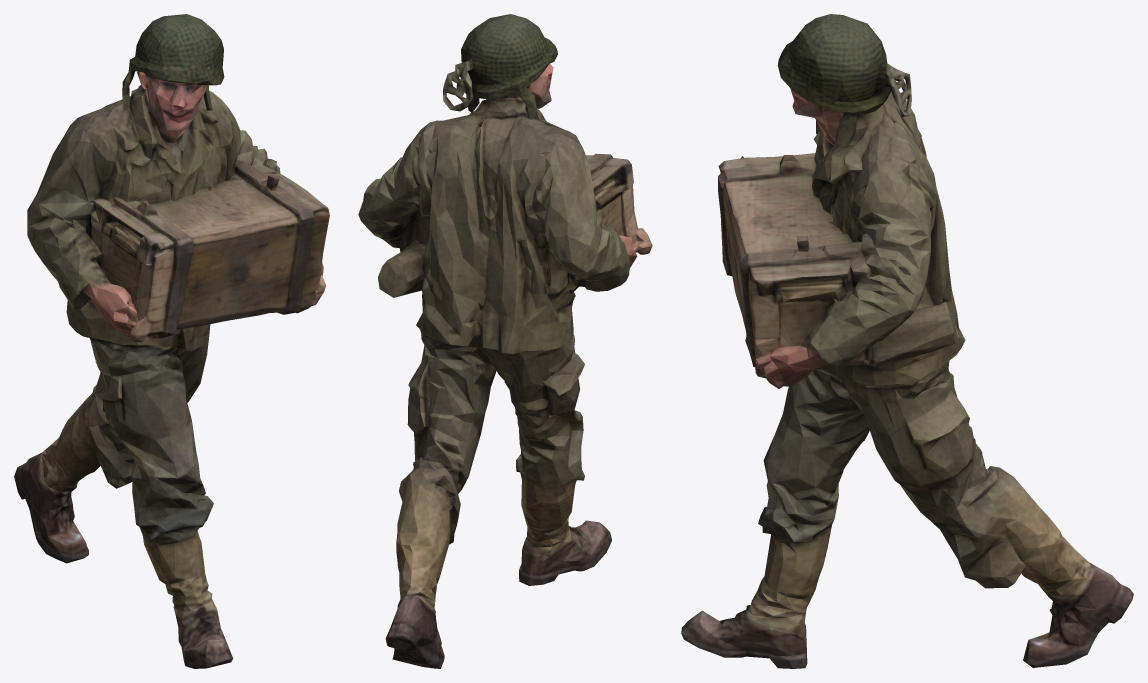
The model's file is walk_us_crate_a.glb.
The picture shows the model from 3 angles, left to right: view 1: azimuth 30°, elevation 25°; view 2: azimuth 150°, elevation 25°; view 3: azimuth 270°, elevation 25°; orthographic projection. The views are drawn at different scales.
Visible parts, largest first — view 1: geometry_0; view 2: geometry_0; view 3: geometry_0.
Part boxes in pixels (x1=…): geometry_0: x1=14, y1=14, x2=329, y2=668; geometry_0: x1=358, y1=14, x2=652, y2=668; geometry_0: x1=681, y1=14, x2=1133, y2=668.
Bounding box in the file's own units: 0.4399 × 1 × 0.6325.
1 material, 1 textured.
